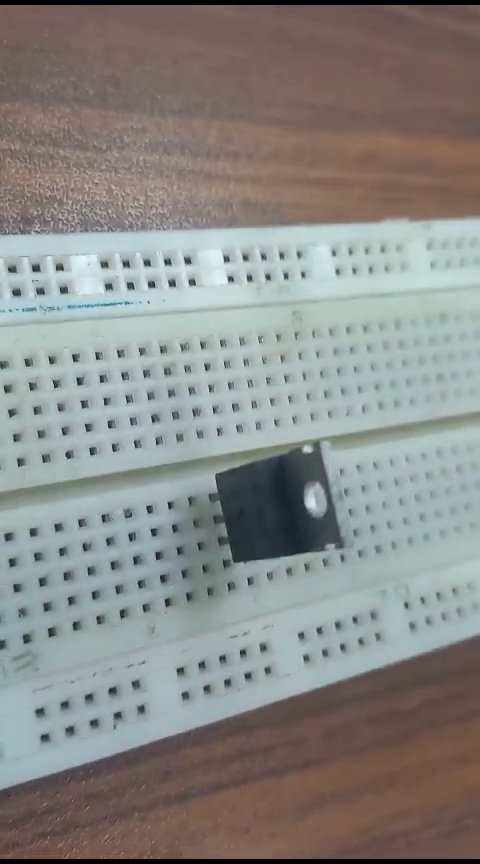voltage regulator: (208, 444, 354, 588)
